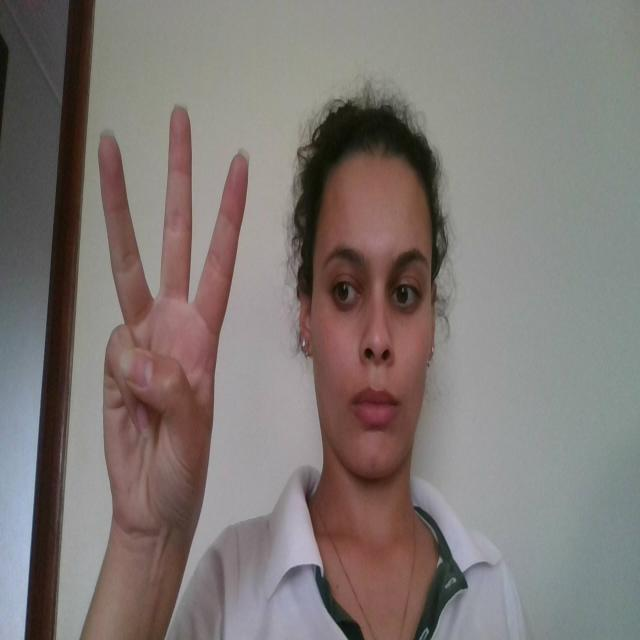W: (89, 100, 251, 535)
